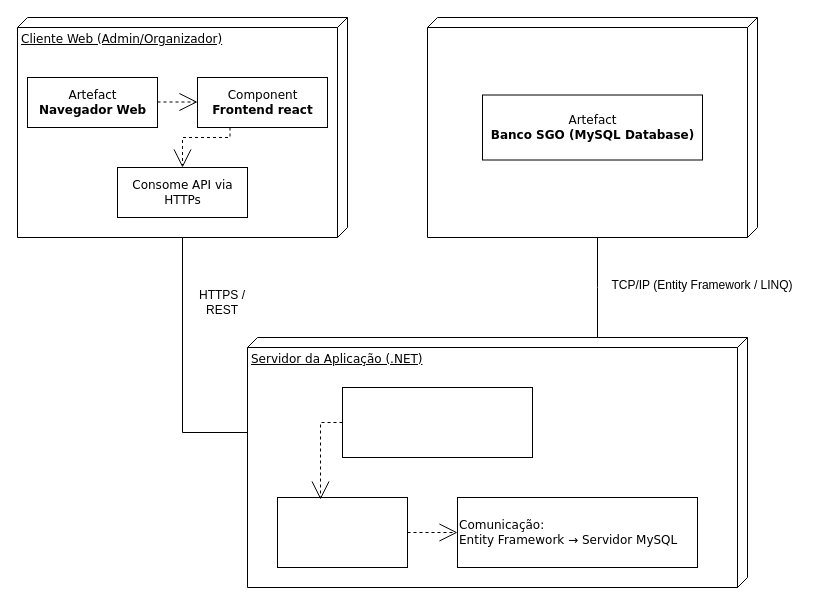
Some shapes in this 825 by 605 pixel diagram are drawn without their labels. The shapes that lost their labels are listed below. From the top down, each one's box as (x1, y1, x2, y2) in pixels, then its label:
(426, 16, 758, 238): Servidor de Banco de Dados (MySQL)
(342, 386, 532, 458): Artefact Aplicação Backend (.NET / ASP.NET Core)
(276, 496, 408, 568): -Controller Layer -Service Layer -Repository Layer
